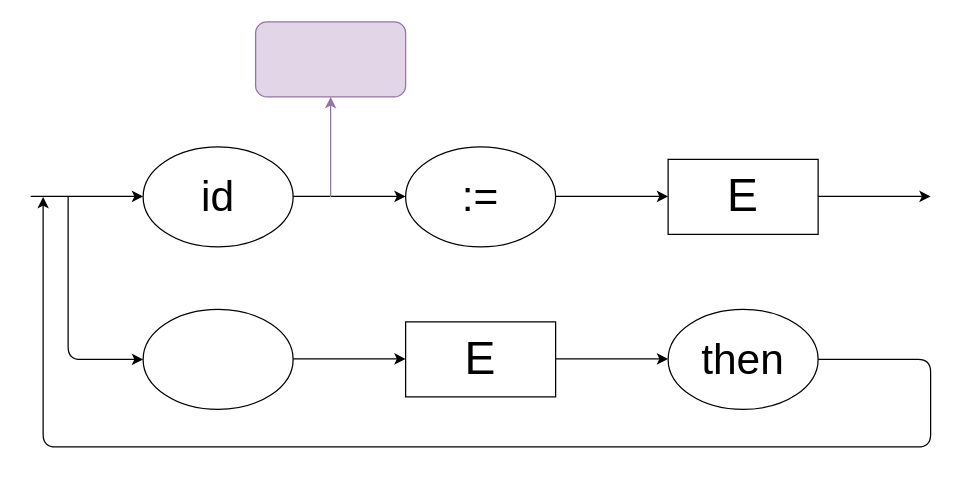
Image size: 963x479. Some labels were removed from this diagram. Here are the shapes that lost their labels. From the top down, the centre of each, then its label:
the point at 330,59: addAnalisysQueue( lookup(token.lexval), TARGET)
the point at 217,358: if
